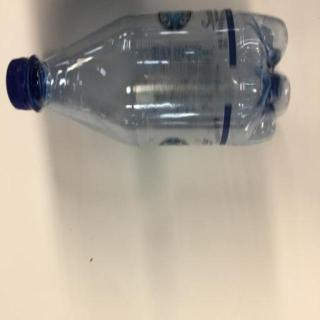Anorganik: (3, 1, 290, 155)
